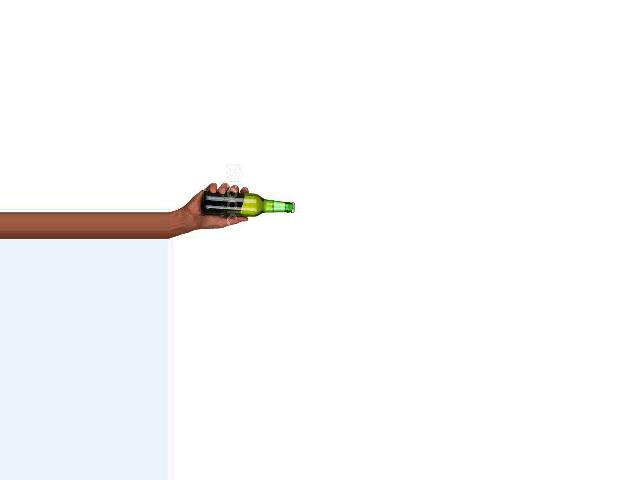beer: (202, 192, 295, 217)
